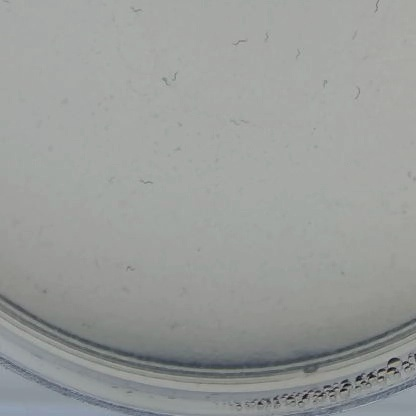worm: (159, 64, 184, 88), (231, 31, 255, 52), (134, 171, 162, 189), (232, 110, 255, 131), (123, 0, 151, 17), (352, 81, 371, 106), (347, 22, 366, 45), (366, 0, 390, 18), (292, 42, 311, 63), (317, 73, 336, 94), (117, 263, 138, 278), (262, 28, 276, 48), (0, 0, 15, 14)
